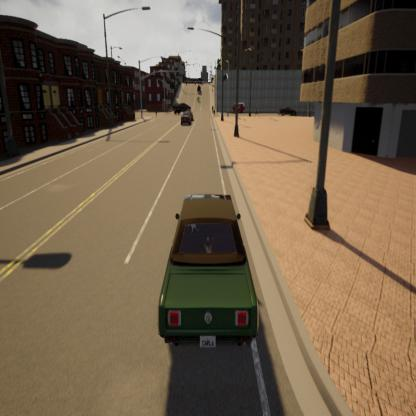Cars: (158, 188, 264, 356), (278, 103, 300, 119), (172, 101, 192, 115), (180, 110, 192, 127), (232, 101, 246, 115)
Pedestrian: (254, 102, 260, 116)
